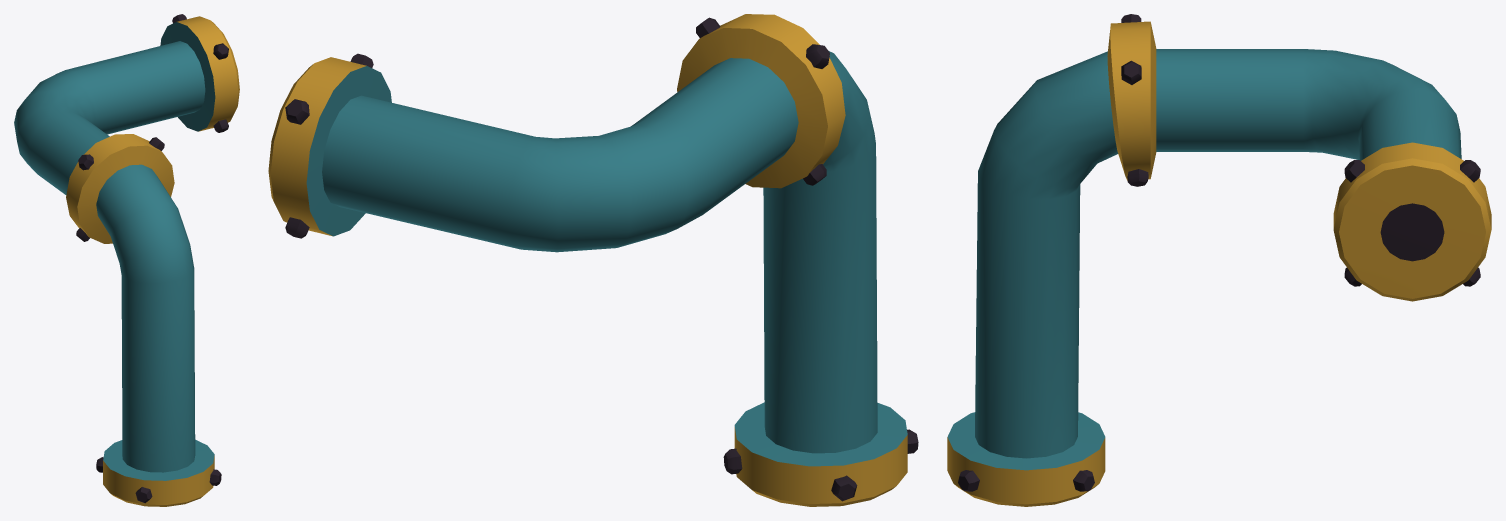
Rendered from PipeRun_26.glb.
The picture shows the model from 3 angles, left to right: view 1: azimuth 30°, elevation 25°; view 2: azimuth 150°, elevation 25°; view 3: azimuth 270°, elevation 25°; orthographic projection. The views are drawn at different scales.
Visible parts, largest first — view 1: PipeRun_26; view 2: PipeRun_26; view 3: PipeRun_26.
Part boxes in pixels (x1,y1,x2,y2): PipeRun_26: (14, 14, 239, 506); PipeRun_26: (268, 14, 918, 506); PipeRun_26: (947, 14, 1491, 506).
Bounding box in the file's own units: 2.71 × 3.42 × 3.77.
